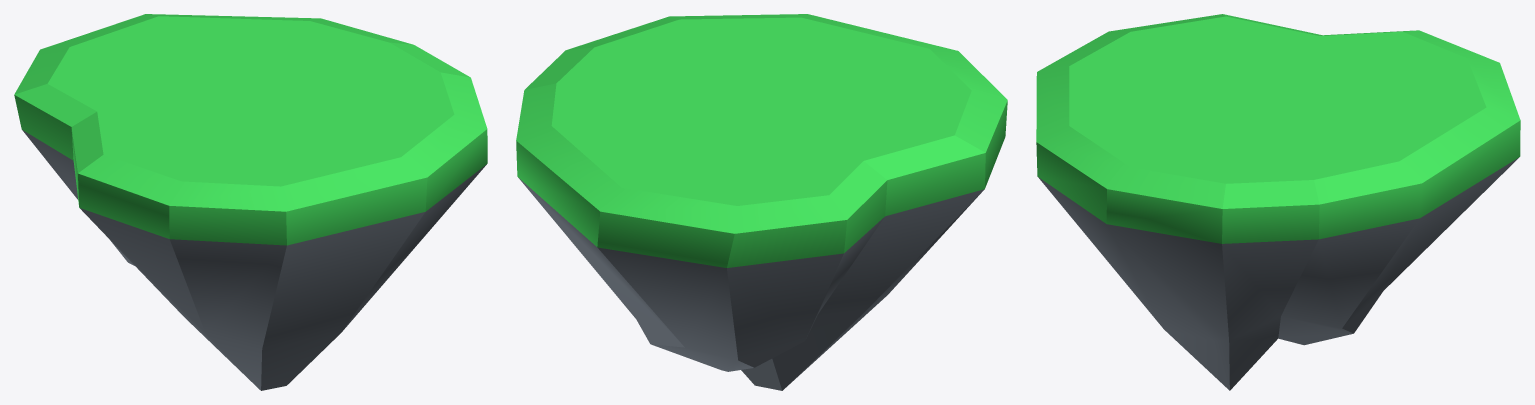
File: island_03.fbx
The picture shows the model from 3 angles, left to right: view 1: azimuth 30°, elevation 25°; view 2: azimuth 150°, elevation 25°; view 3: azimuth 270°, elevation 25°; orthographic projection. The views are drawn at different scales.
Parts seen in each view (by area): view 1: Island.003; view 2: Island.003; view 3: Island.003.
Part boxes in pixels (left/top/right/bottom): Island.003: left=14, top=14, right=487, bottom=390; Island.003: left=516, top=14, right=1007, bottom=390; Island.003: left=1036, top=14, right=1520, bottom=390.
Size of the model in its own units: 1127 by 762 by 1182.
